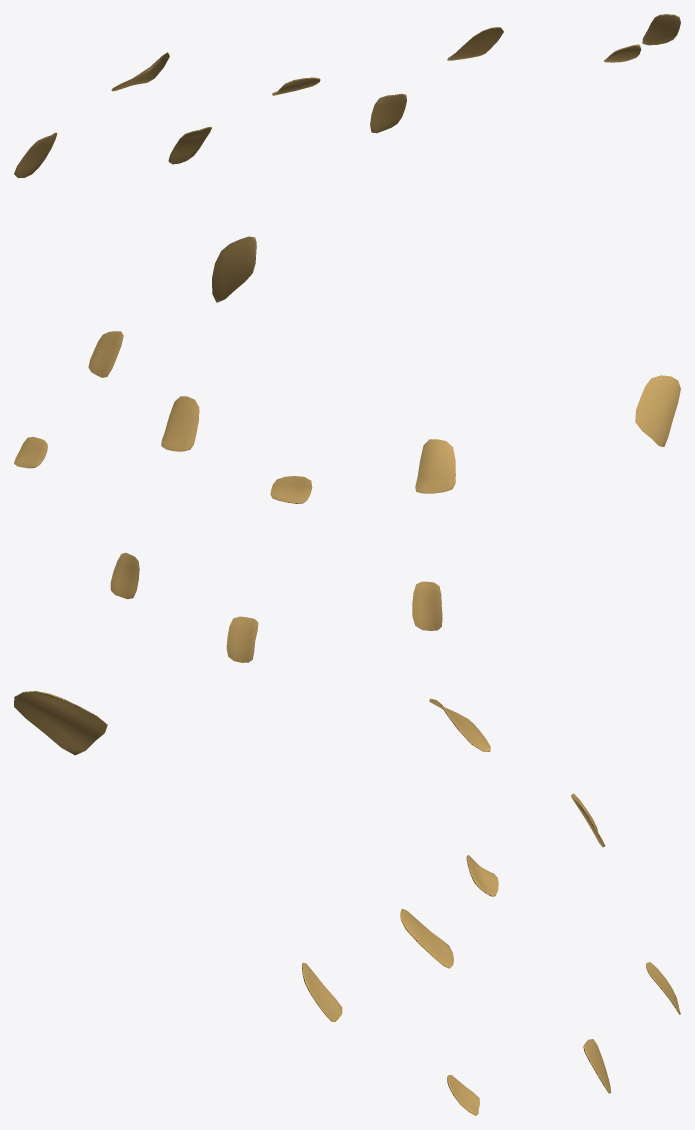
3 renders of one model, top to bottom at view 1: azimuth 30°, elevation 25°; view 2: azimuth 150°, elevation 25°; view 3: azimuth 270°, elevation 25°, orthographic. The views are drawn at different scales.
Parts seen in each view (by area): view 1: 右侧指间关节掌侧韧带; view 2: 右侧指间关节掌侧韧带; view 3: 右侧指间关节掌侧韧带.
Boxes of the visible parts, x1,y1,x2,y2 form: 右侧指间关节掌侧韧带: (14,14,680,302); 右侧指间关节掌侧韧带: (14,331,680,662); 右侧指间关节掌侧韧带: (14,691,680,1115).
Size of the model in its own units: 0.1414 by 0.0494 by 0.1229.
